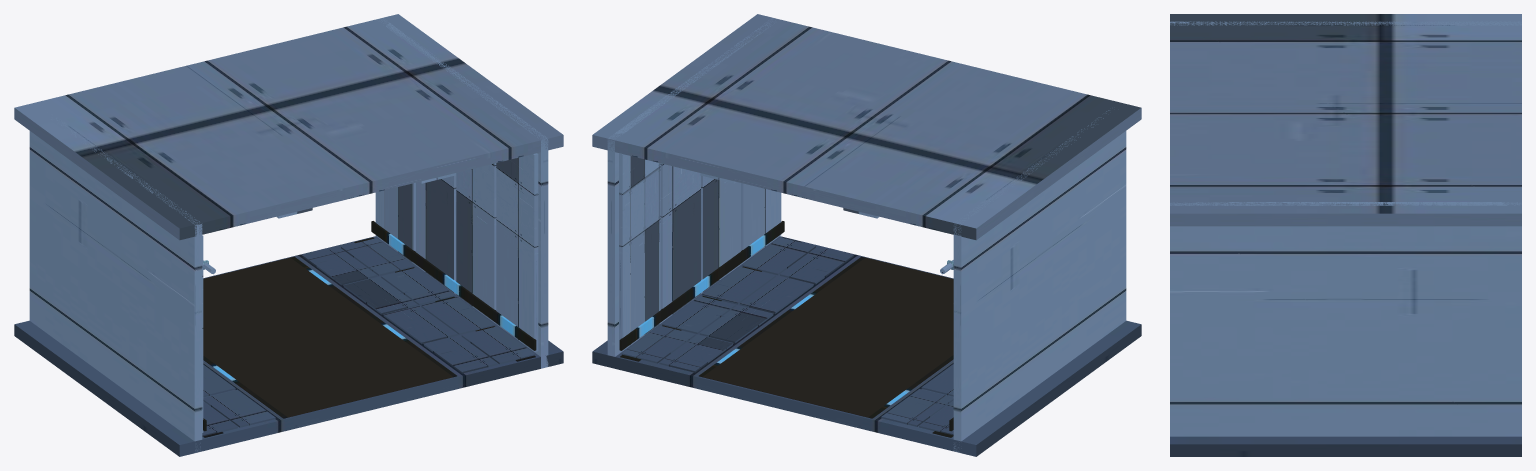
File: hangar_koridor_ice.glb
The picture shows the model from 3 angles, left to right: view 1: azimuth 30°, elevation 25°; view 2: azimuth 150°, elevation 25°; view 3: azimuth 270°, elevation 25°; orthographic projection. The views are drawn at different scales.
Parts seen in each view (by area): view 1: LOD0_koridor; view 2: LOD0_koridor; view 3: LOD0_koridor.
Part boxes in pixels (<box>): LOD0_koridor: <box>14,14,563,456</box>; LOD0_koridor: <box>592,14,1141,456</box>; LOD0_koridor: <box>1170,14,1521,456</box>.
Bounding box in the file's own units: 10.2 × 5.8 × 7.6.
Materials: 1 (1 with a texture image).
